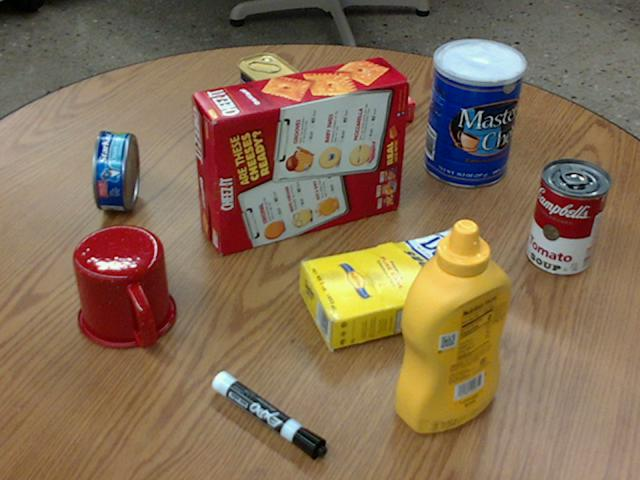cracker_box: (192, 56, 407, 255)
gelatin_box: (337, 73, 415, 127)
large_marker: (211, 372, 325, 458)
master_chef_can: (423, 39, 525, 186)
mug: (74, 225, 177, 347)
mustard_bottle: (395, 220, 510, 433)
potted_meat_can: (238, 52, 310, 148)
sugar_box: (299, 230, 501, 348)
tomato_soup_can: (528, 159, 610, 275)
tuna_fish_can: (94, 131, 138, 210)
